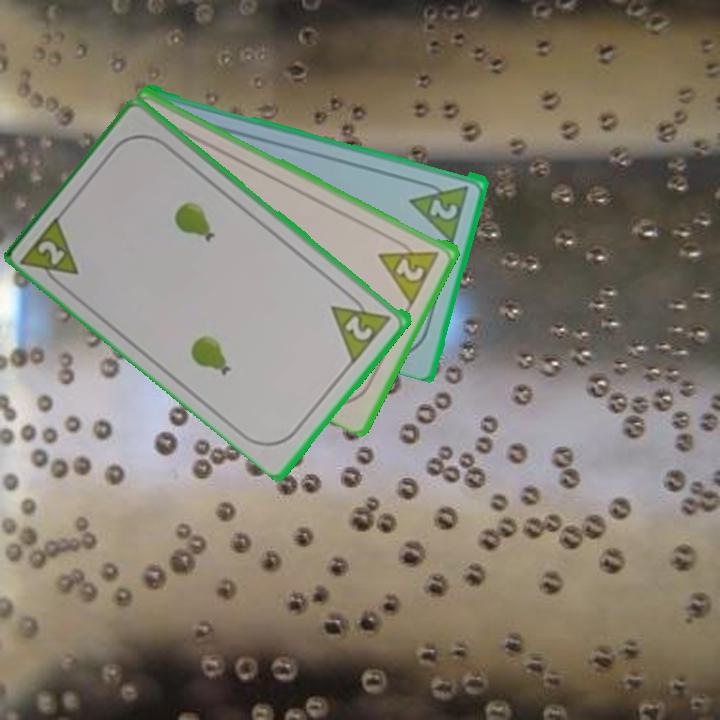2p: (18, 210, 83, 294), (328, 286, 395, 364), (375, 234, 443, 306), (426, 194, 461, 222)
